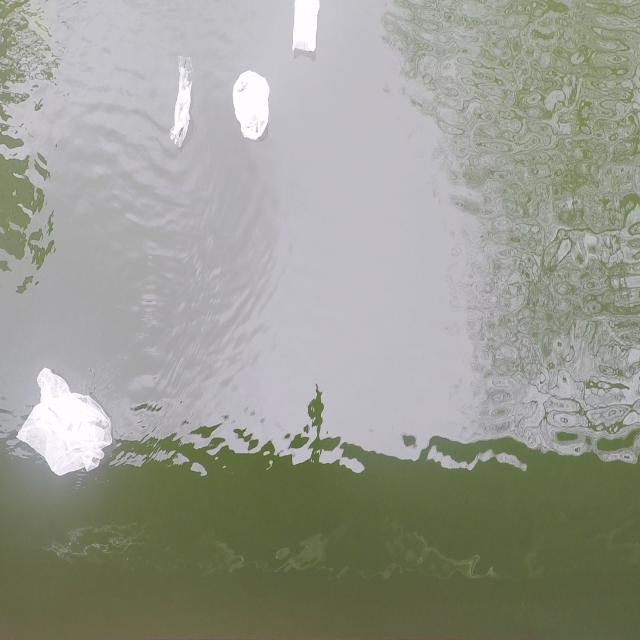Sac plastique: (12, 363, 117, 484), (230, 62, 274, 150), (164, 54, 198, 152), (283, 0, 327, 59)
